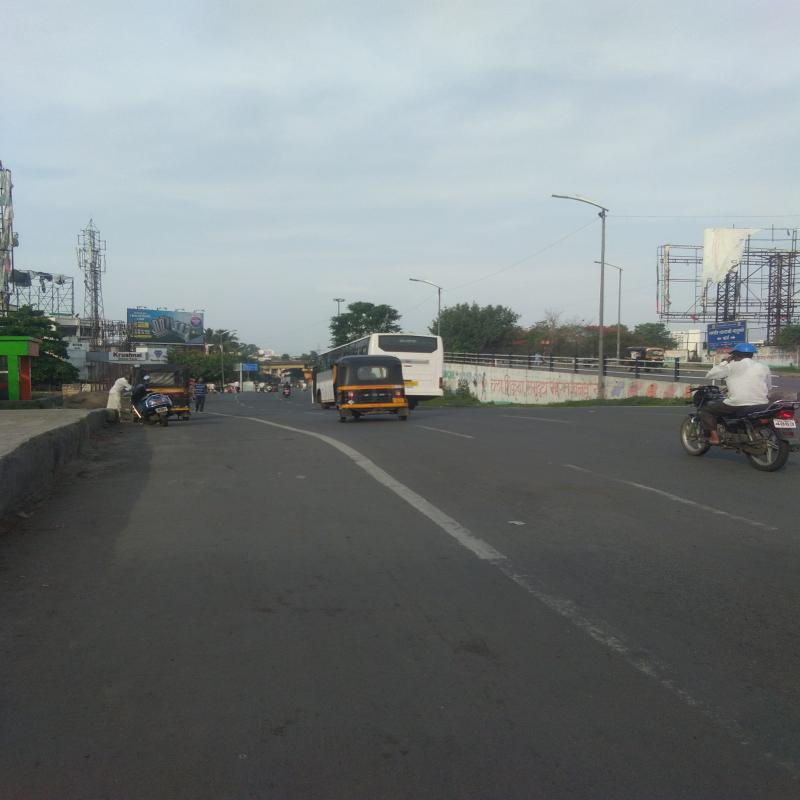bike: (360, 342, 443, 392)
